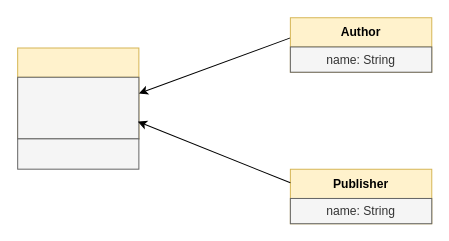
Some shapes in this 449 by 241 pixel diagram are drawn without their labels. The box of each missing label's shape, as (x1, y1, x2, y2) in pixels:
Book: (17, 47, 139, 139)
name: Str author: Author publisher: Publisher: (17, 76, 139, 139)
